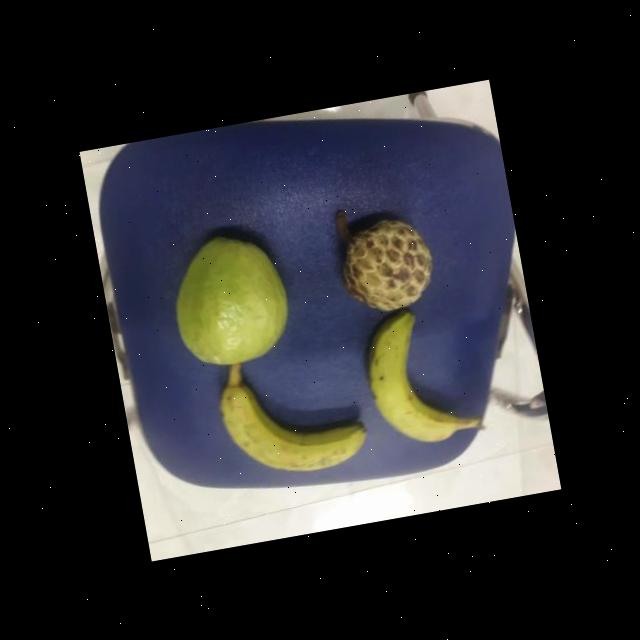Sakya fruit: (332, 210, 442, 322)
banana: (208, 358, 372, 486), (358, 298, 485, 457)
guava: (158, 222, 302, 378)
